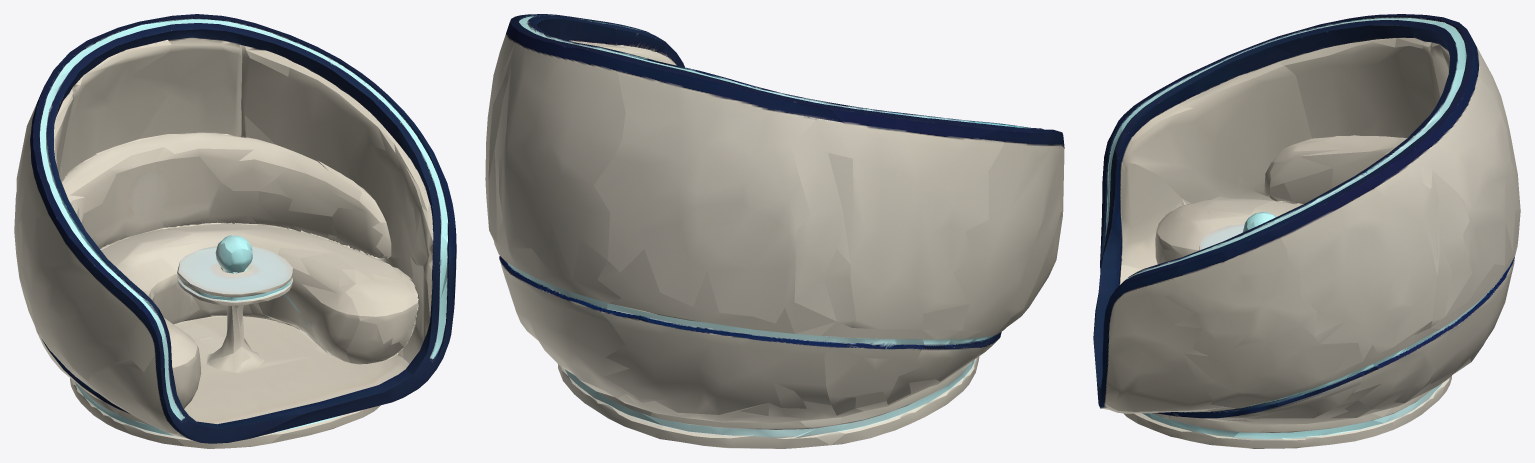
The model's file is lounge.glb.
The picture shows the model from 3 angles, left to right: view 1: azimuth 30°, elevation 25°; view 2: azimuth 150°, elevation 25°; view 3: azimuth 270°, elevation 25°; orthographic projection. The views are drawn at different scales.
Size of the model in its own units: 1.9 by 1.43 by 1.72.
1 material, 1 textured.
